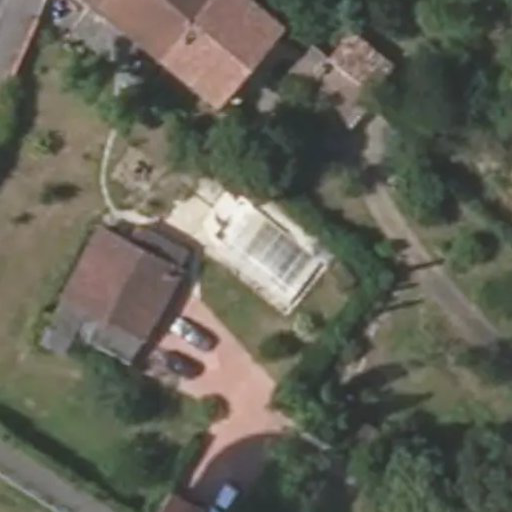pool: (190, 226, 315, 251)
